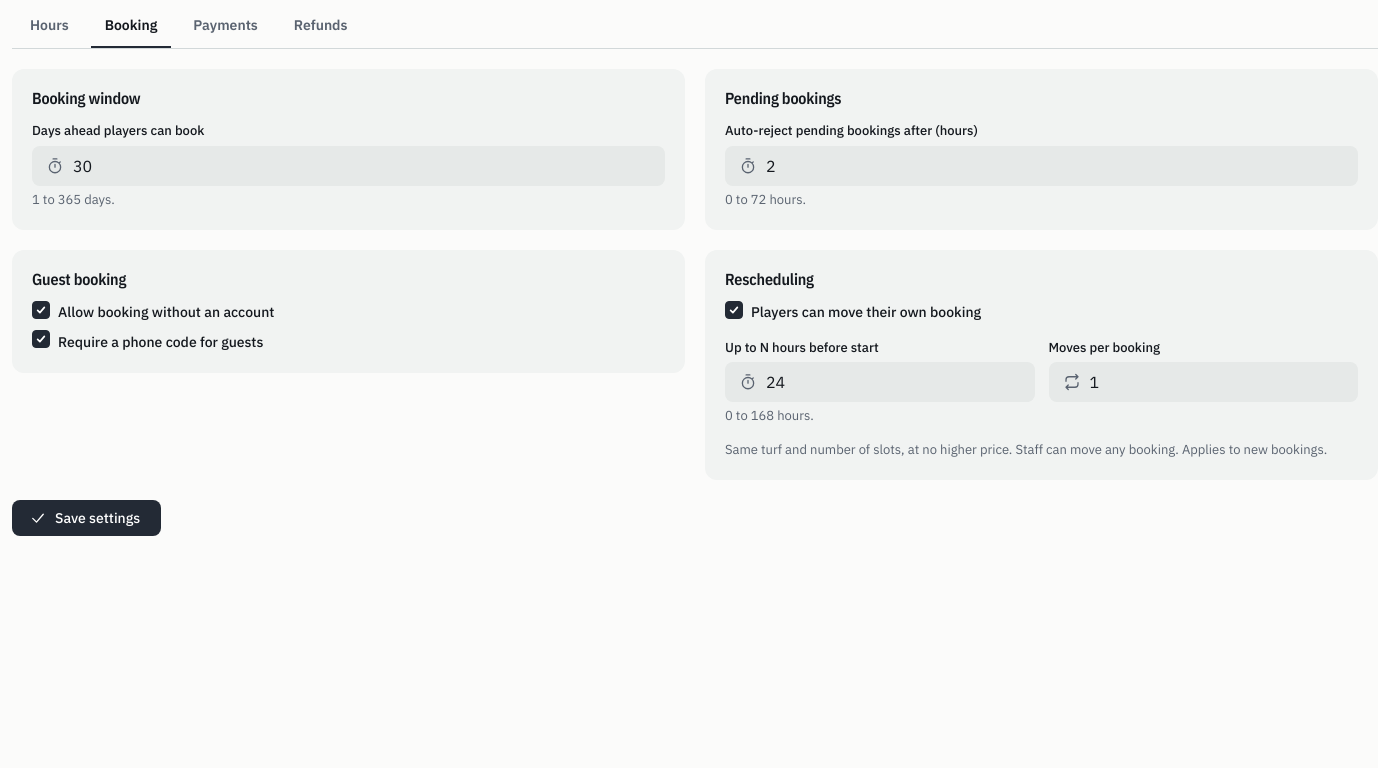
Test: SettingsForm › out-of-range rescheduling numbers block save with their own errors
Replace the text in the number field labelled "Up to N hours before start" with "200": (880, 382) [725, 362, 1034, 402]
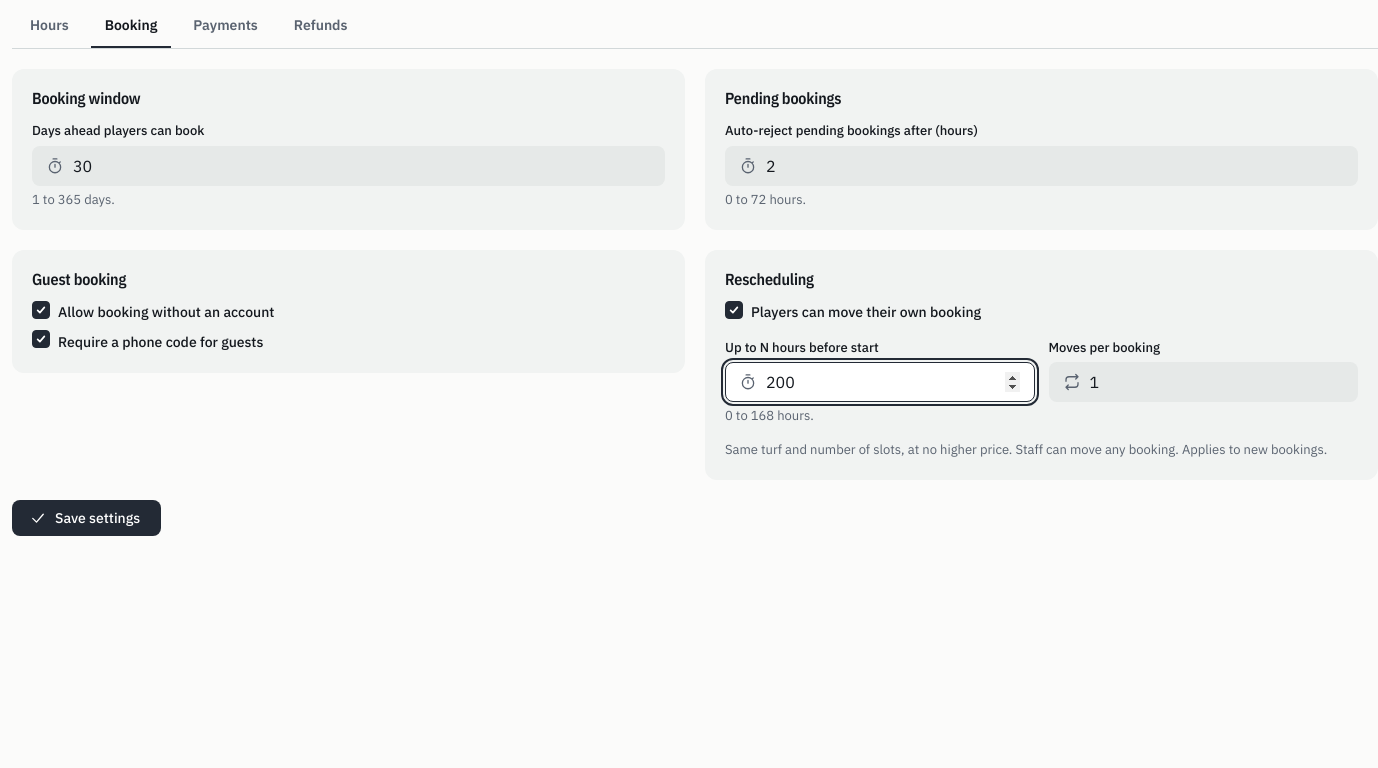
Click the button "Save settings": click(87, 518) [12, 500, 161, 536]
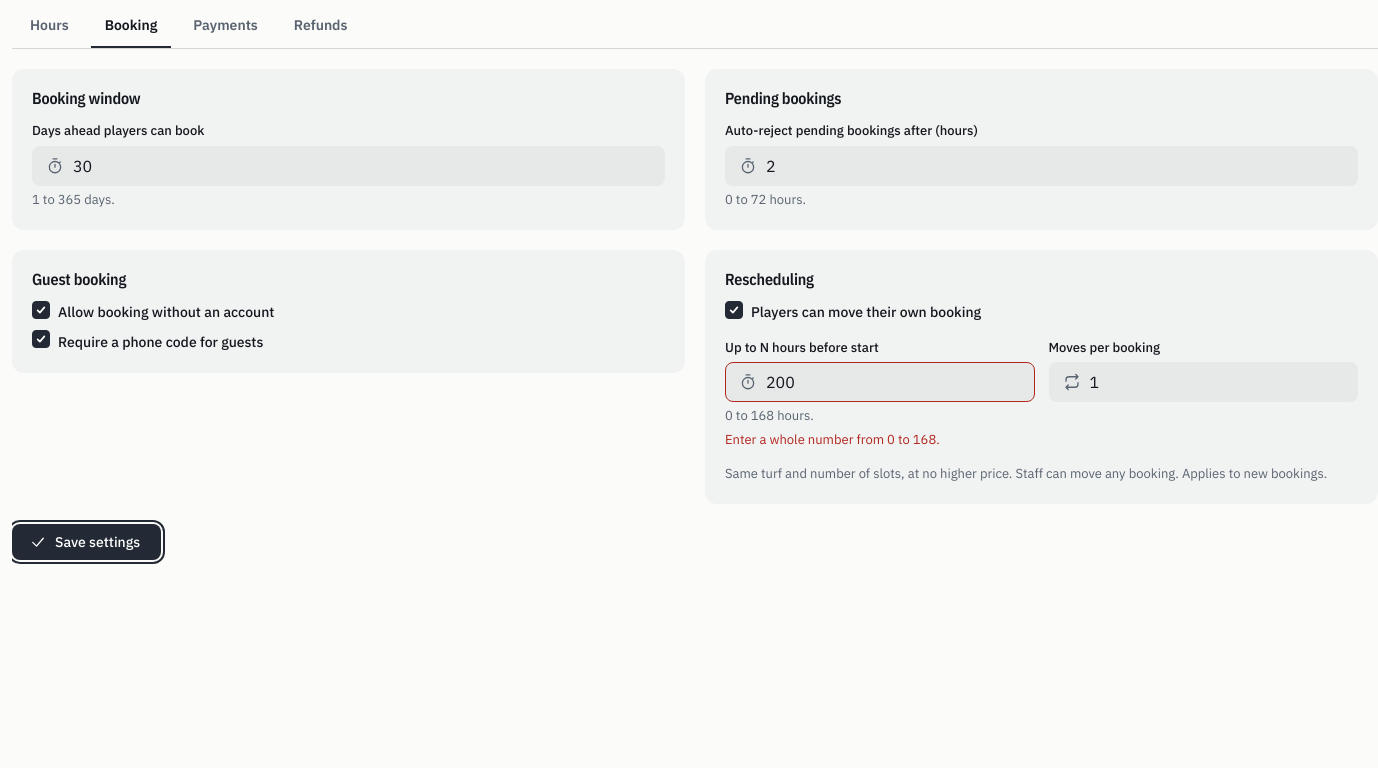
Expected: the text "Enter a whole number from 0 to 168." is shown, [725, 431, 940, 448]
